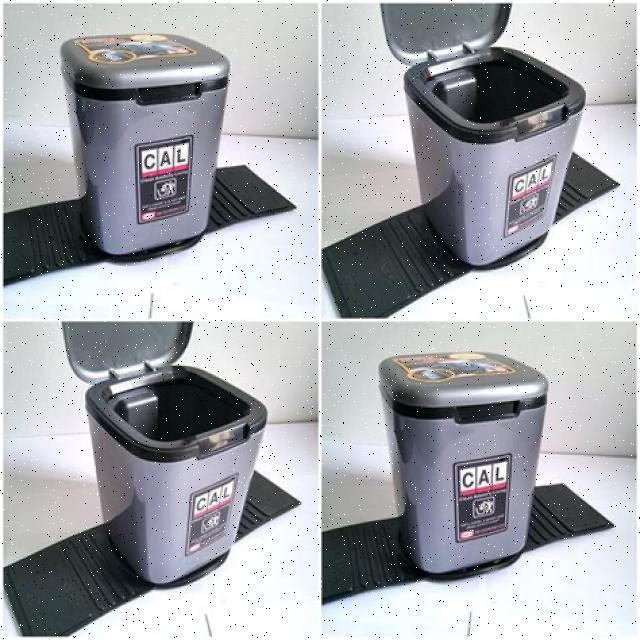garbage container: (348, 0, 640, 277), (346, 339, 614, 600), (44, 327, 298, 592), (57, 18, 270, 270)
